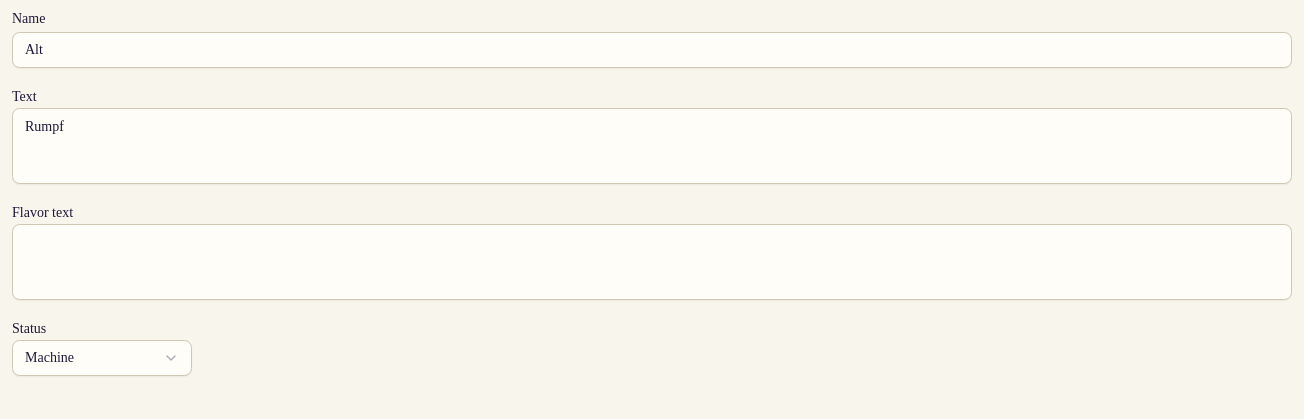
Scenario: LocalizationForm › fails validation on an empty name, shows the error and focuses the field
Clear the field labelled "Name" at {"x": 652, "y": 50}, box x1=12 y1=32 x2=1292 y2=68
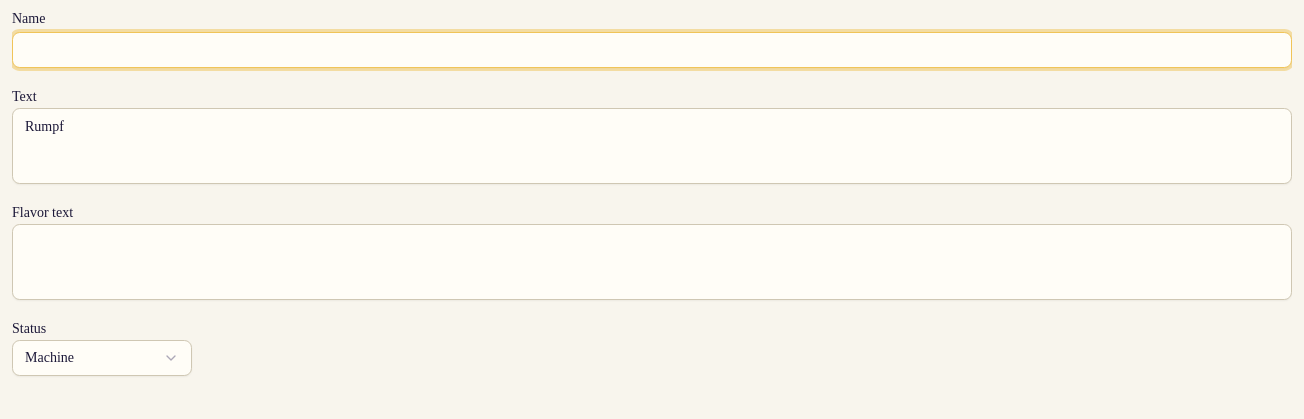
Press Tab
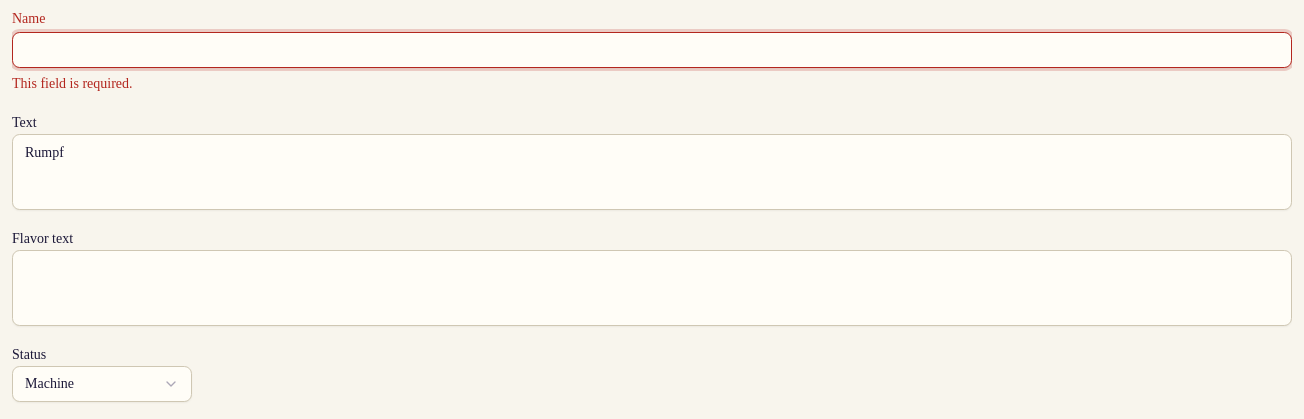
Check: the text "This field is required." is shown, box x1=12 y1=76 x2=132 y2=91
